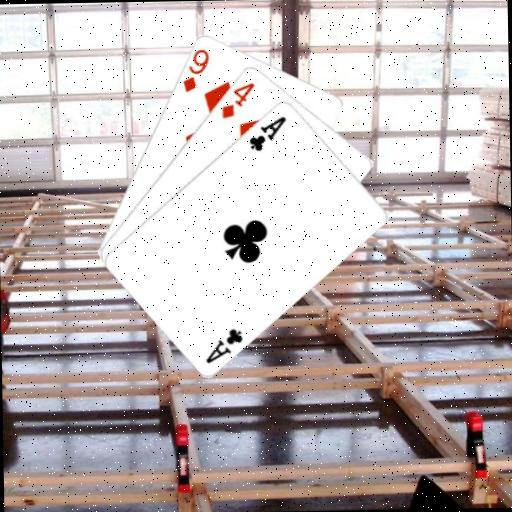4D: (219, 79, 258, 121)
9D: (179, 45, 211, 94)
AC: (245, 113, 289, 154), (202, 324, 245, 365)
